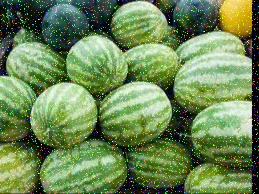watermelon: (97, 81, 173, 147), (39, 141, 128, 191), (30, 80, 95, 148), (174, 54, 250, 109), (66, 35, 128, 90)
